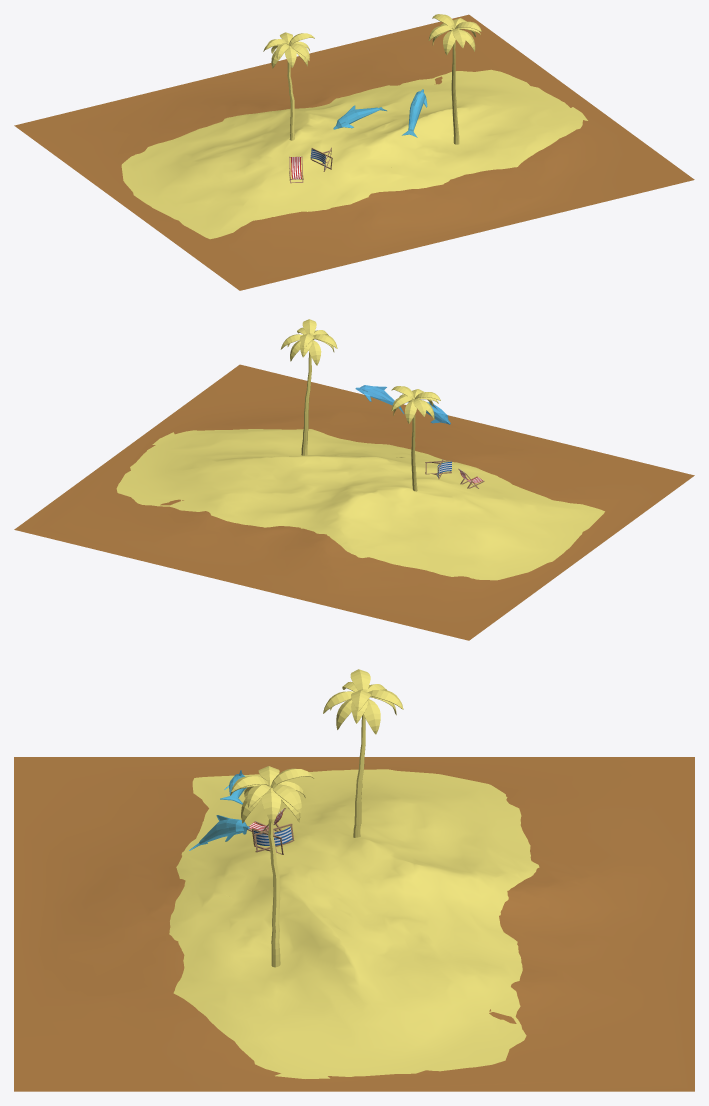
Rendered from island place.fbx.
3 views of the same model, one above another, from view 1: azimuth 30°, elevation 25°; view 2: azimuth 150°, elevation 25°; view 3: azimuth 270°, elevation 25° (orthographic). The views are drawn at different scales.
Visible parts, largest first — view 1: Landscape_2, Landscape, Palm_Tree_1_1, Palm_Tree_1, Mesh_1, Mesh; view 2: Landscape_2, Landscape, Palm_Tree_1_1, Palm_Tree_1; view 3: Landscape_2, Landscape, Palm_Tree_1_1, Palm_Tree_1, Mesh.
Part boxes in pixels (left/top/right/bottom): Landscape_2: left=14, top=14, right=694, bottom=290; Landscape: left=121, top=69, right=587, bottom=239; Palm_Tree_1_1: left=428, top=14, right=481, bottom=144; Palm_Tree_1: left=263, top=32, right=314, bottom=140; Mesh_1: left=333, top=105, right=386, bottom=129; Mesh: left=402, top=89, right=427, bottom=137; Landscape_2: left=14, top=364, right=694, bottom=640; Landscape: left=116, top=429, right=604, bottom=580; Palm_Tree_1_1: left=280, top=319, right=337, bottom=455; Palm_Tree_1: left=391, top=386, right=440, bottom=491; Landscape_2: left=14, top=757, right=694, bottom=1091; Landscape: left=169, top=769, right=539, bottom=1078; Palm_Tree_1_1: left=230, top=766, right=314, bottom=967; Palm_Tree_1: left=323, top=669, right=403, bottom=837; Mesh: left=189, top=815, right=249, bottom=850.
Size of the model in its own units: 1441 by 415 by 1239.
